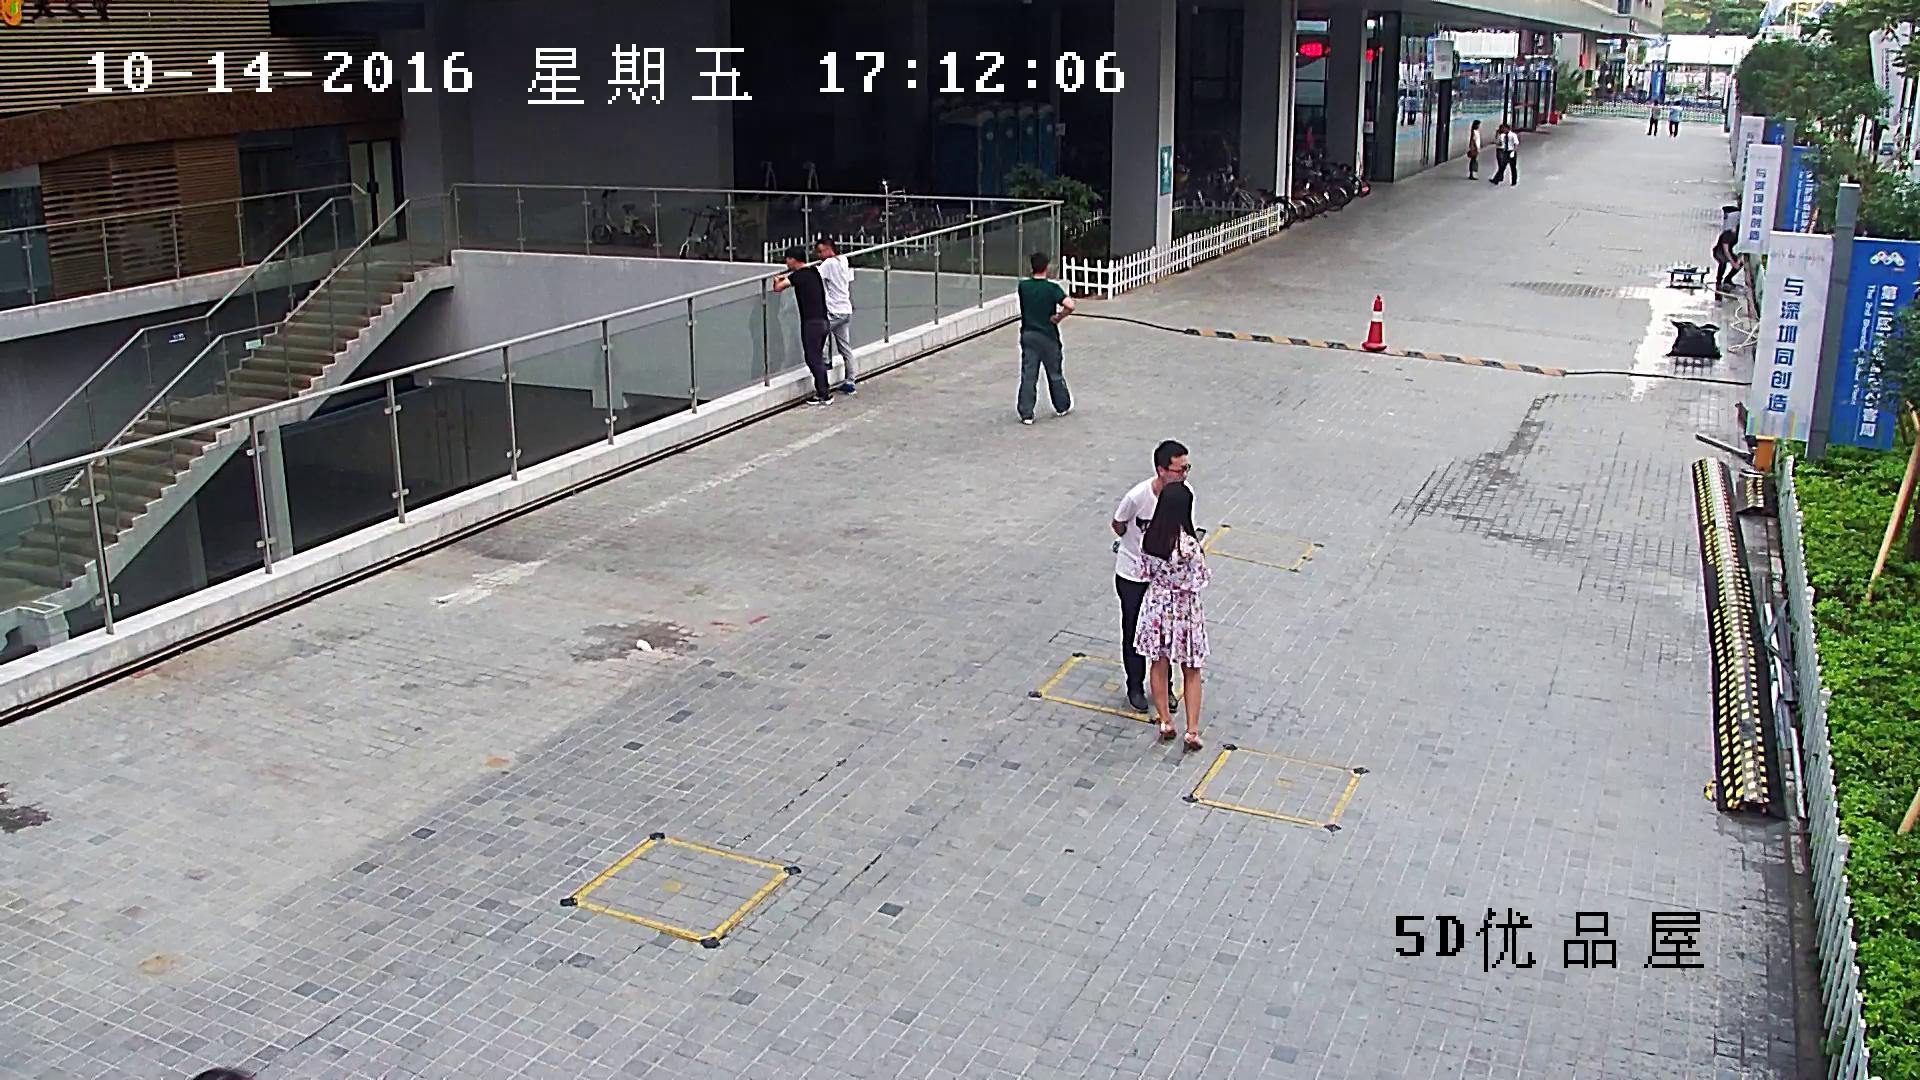person: (1111, 441, 1191, 712), (1134, 480, 1209, 753), (772, 245, 833, 405), (1018, 253, 1072, 424), (816, 238, 855, 394), (1714, 223, 1744, 294), (1489, 124, 1519, 188), (1467, 119, 1481, 181), (1669, 99, 1681, 137), (1648, 99, 1660, 137)
